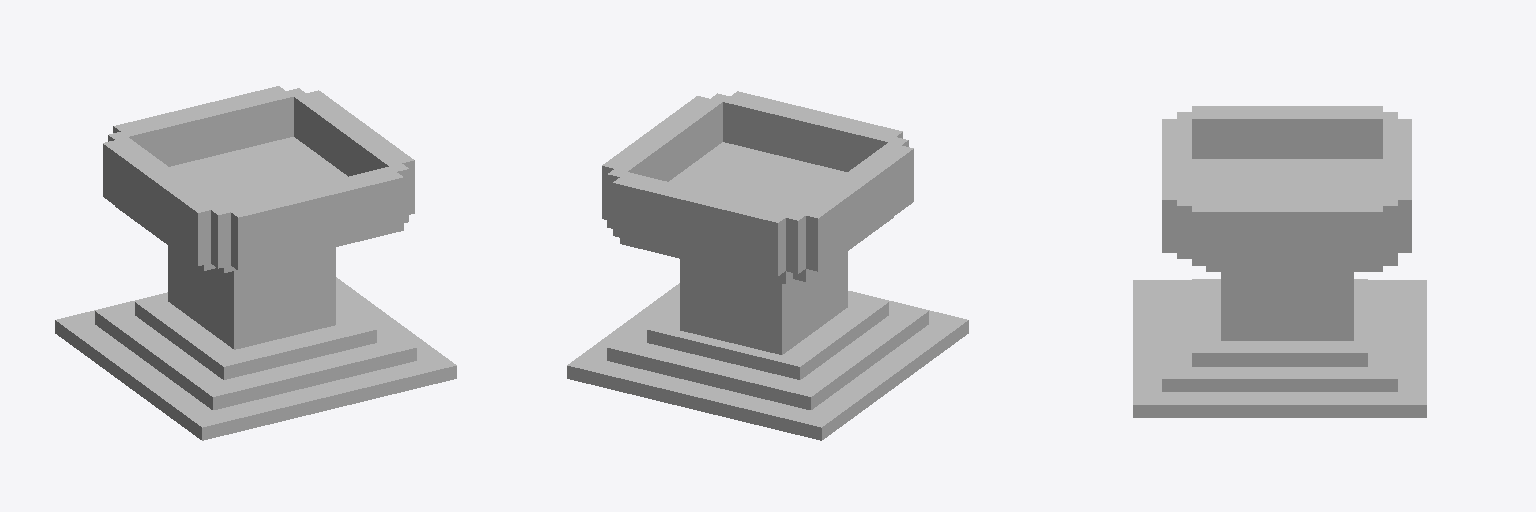
File: Alter.obj
3 views of the same model, side by side, from view 1: azimuth 30°, elevation 25°; view 2: azimuth 150°, elevation 25°; view 3: azimuth 270°, elevation 25° (orthographic).
Parts seen in each view (by area): view 1: Alter; view 2: Alter; view 3: Alter.
Boxes of the visible parts, box(x1,y1,x2,y2) form: Alter: box(55, 86, 456, 440); Alter: box(567, 91, 968, 440); Alter: box(1133, 106, 1426, 417).
Bounding box in the file's own units: 20 × 15 × 20.